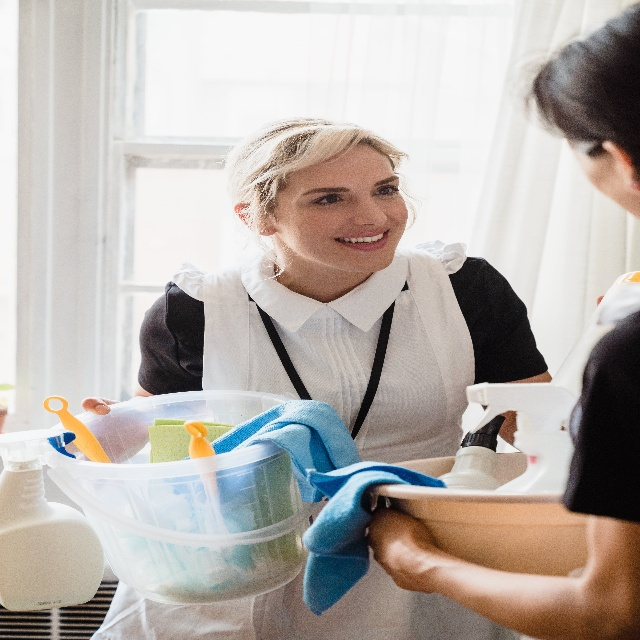Sin_guantes: (365, 501, 434, 594)
